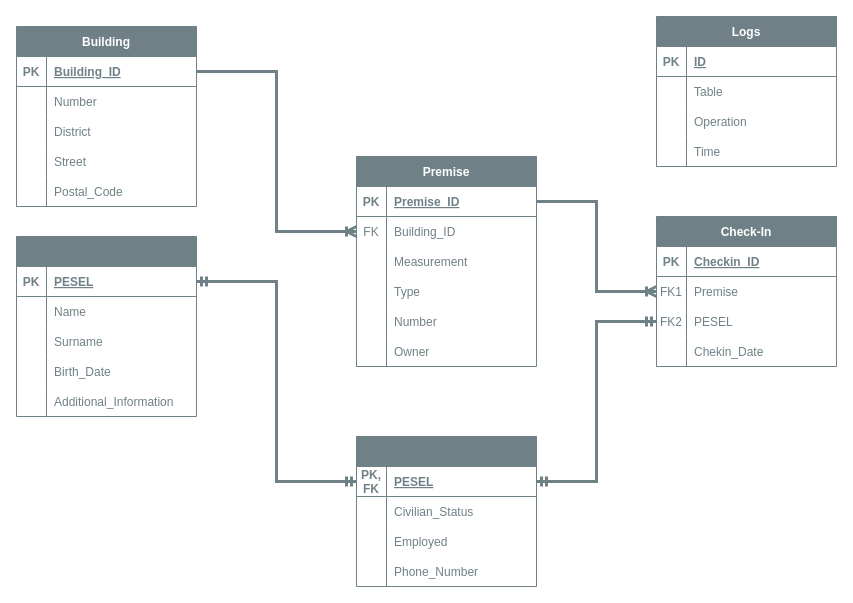
Image size: 853x603. Some labels were removed from this diagram. The box of each missing label's shape, as (x1, y1, x2, y2) in pixels:
Inhabitant: (356, 436, 536, 586)
Person: (16, 236, 196, 416)
